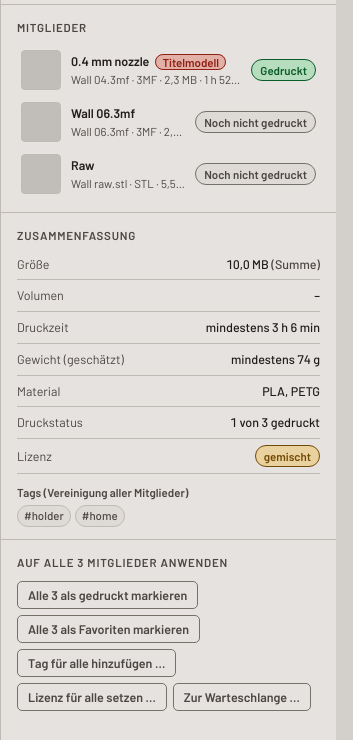
Test case: BundlePanel queue › queues all parts that are not in the queue yet
The image size is (353, 740).
(page scrolled)
Click the button "Zur Warteschlange …": (242, 697) 173,683 -> 311,711
(page scrolled)
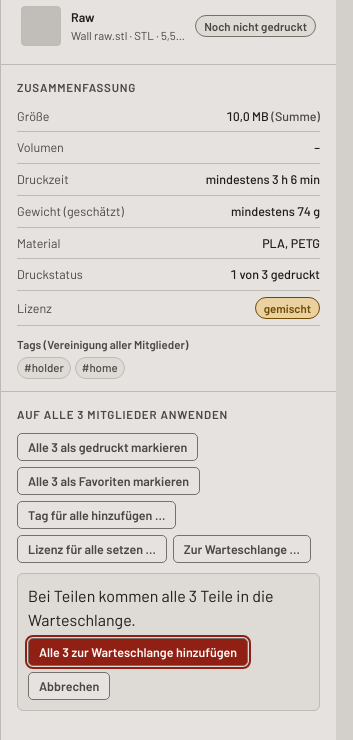
Check: the text "Bei Teilen kommen alle 3 Teile in die Warteschlange." is shown, box 28,584 -> 309,632
Click the button "Alle 3 zur Warteschlange hinzufügen": (138, 652) 28,638 -> 248,666
(page scrolled)
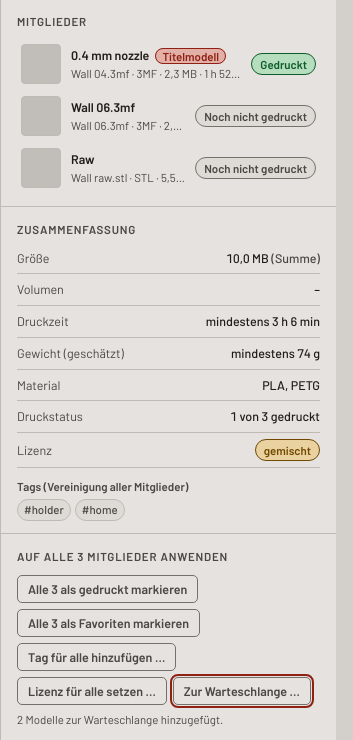
Check: the message reads "2 Modelle zur Warteschlange hinzugefügt.", box 17,712 -> 223,726
